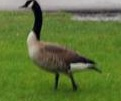goose: (15, 1, 106, 96)
